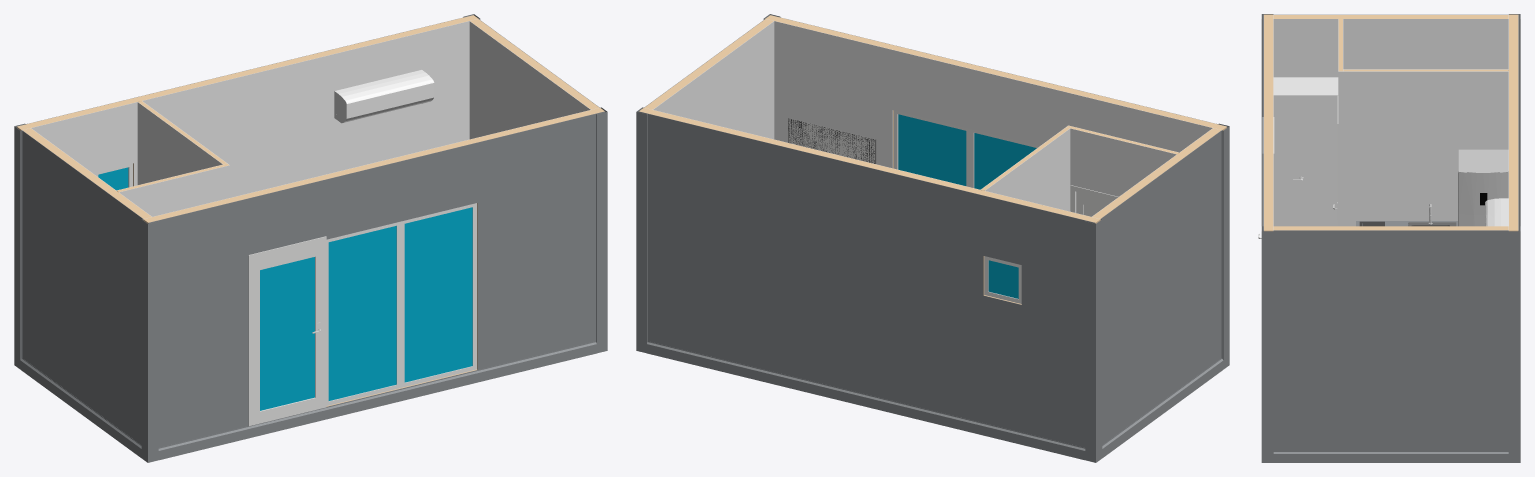
3 views of the same model, side by side, from view 1: azimuth 30°, elevation 25°; view 2: azimuth 150°, elevation 25°; view 3: azimuth 270°, elevation 25° (orthographic). The views are drawn at different scales.
Parts seen in each view (by area): view 1: IfcWall/Part:2387207, IfcWall/Part:2387203, IfcWindow/Aluprof_MB-86-SI_E_Alu_Window-1sash-FIX_ENG_R-0004 (×2), IfcDoor/Simple_vitree_-_03:1000(fake)x2100:2290261, IfcWindow/Aluprof_MB-86-SI_E_Alu_Window-1sash-FIX_ENG_R-000, IfcWall/Part:2387835, IfcWall/Part:2387836, IfcWall/Walls 2:Walls 2:2389877, IfcWall/Part:2387596, IfcWall/Part:2387599, IfcWall/Part:2387600, IfcWall/Part:2387202 (+15 smaller); view 2: IfcWall/Part:2387532, IfcWall/Part:2387535, IfcWall/Part:2387536, IfcWall/Part:2387534, IfcWall/Part:2387533, IfcWall/Part:2387835, IfcWall/Part:2387836, IfcWall/Walls 2:Walls 2:2389877, IfcWall/Part:2387397, IfcWall/Walls 3:Walls 3:2390544, IfcWall/Part:2387392, IfcWindow/Aluprof_MB-86-SI_E_Alu_Window-1sash-FIX_ENG_R-0004 (×2) (+15 smaller); view 3: IfcWall/Part:2388122, IfcWall/Part:2388123, IfcWall/Part:2397730, IfcWall/Part:2397729, IfcFurnishingElement/Cabinet_-_Storage:760 x 500 x 2100mm:22, IfcWall/Part:2388121, IfcWall/Walls 2:Walls 2:2389877, IfcWall/Part:2388005, IfcWall/Part:2388004, IfcBuildingElementProxy/Kitchen_Appliances_Electrolux_595 20, IfcWall/Walls 3:Walls 3:2390544, IfcWall/Part:2388003 (+19 smaller).
Boxes of the visible parts, left/top/right/bottom form: IfcWall/Part:2387207: left=492, top=118, right=578, bottom=366; IfcWall/Part:2387203: left=148, top=202, right=234, bottom=447; IfcWindow/Aluprof_MB-86-SI_E_Alu_Window-1sash-FIX_ENG_R-0004 (×2): left=95, top=163, right=476, bottom=387; IfcDoor/Simple_vitree_-_03:1000(fake)x2100:2290261: left=248, top=236, right=326, bottom=425; IfcWindow/Aluprof_MB-86-SI_E_Alu_Window-1sash-FIX_ENG_R-000: left=326, top=222, right=399, bottom=405; IfcWall/Part:2387835: left=71, top=167, right=121, bottom=429; IfcWall/Part:2387836: left=22, top=130, right=71, bottom=393; IfcWall/Walls 2:Walls 2:2389877: left=14, top=14, right=607, bottom=462; IfcWall/Part:2387596: left=280, top=46, right=365, bottom=185; IfcWall/Part:2387599: left=194, top=67, right=279, bottom=197; IfcWall/Part:2387600: left=366, top=25, right=451, bottom=164; IfcWall/Part:2387202: left=406, top=139, right=492, bottom=387; IfcWall/Part:2387532: left=751, top=139, right=837, bottom=387; IfcWall/Part:2387535: left=837, top=160, right=923, bottom=408; IfcWall/Part:2387536: left=665, top=118, right=751, bottom=366; IfcWall/Part:2387534: left=923, top=181, right=1009, bottom=429; IfcWall/Part:2387533: left=1009, top=202, right=1095, bottom=447; IfcWall/Part:2387835: left=1150, top=146, right=1199, bottom=409; IfcWall/Part:2387836: left=1101, top=183, right=1150, bottom=444; IfcWall/Walls 2:Walls 2:2389877: left=636, top=14, right=1229, bottom=462; IfcWall/Part:2387397: left=792, top=25, right=877, bottom=164; IfcWall/Walls 3:Walls 3:2390544: left=647, top=341, right=1223, bottom=460; IfcWall/Part:2387392: left=878, top=46, right=963, bottom=168; IfcWindow/Aluprof_MB-86-SI_E_Alu_Window-1sash-FIX_ENG_R-0004 (×2): left=893, top=110, right=1021, bottom=303; IfcWall/Part:2388122: left=1316, top=230, right=1412, bottom=450; IfcWall/Part:2388123: left=1412, top=230, right=1508, bottom=450; IfcWall/Part:2397730: left=1338, top=71, right=1412, bottom=226; IfcWall/Part:2397729: left=1412, top=71, right=1508, bottom=220; IfcFurnishingElement/Cabinet_-_Storage:760 x 500 x 2100mm:22: left=1273, top=77, right=1338, bottom=226; IfcWall/Part:2388121: left=1274, top=230, right=1316, bottom=450; IfcWall/Walls 2:Walls 2:2389877: left=1261, top=14, right=1520, bottom=462; IfcWall/Part:2388005: left=1412, top=19, right=1508, bottom=69; IfcWall/Part:2388004: left=1316, top=19, right=1412, bottom=77; IfcBuildingElementProxy/Kitchen_Appliances_Electrolux_595 20: left=1458, top=149, right=1508, bottom=226; IfcWall/Walls 3:Walls 3:2390544: left=1273, top=451, right=1508, bottom=462; IfcWall/Part:2388003: left=1273, top=19, right=1316, bottom=77.
Size of the model in its own units: 604 by 300 by 308.
